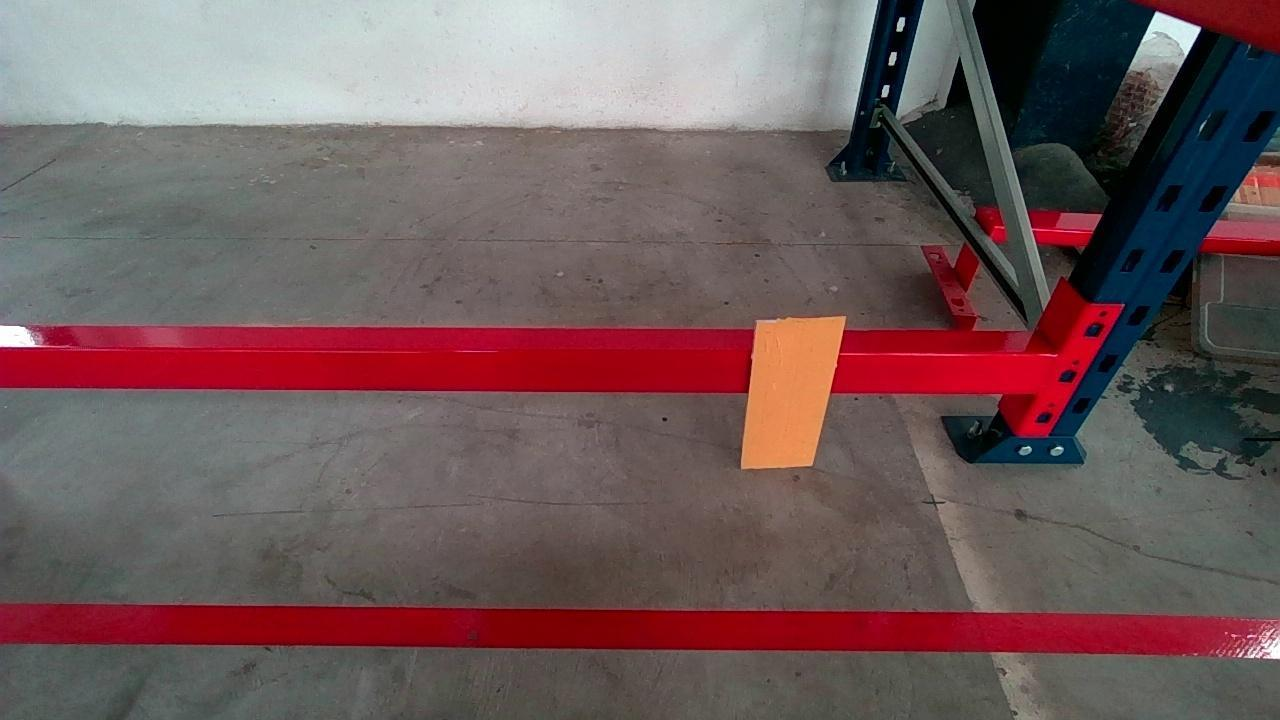h_rack: (6, 340, 1053, 396)
orange_strip: (740, 318, 843, 468)
red_line: (9, 598, 1280, 668)
